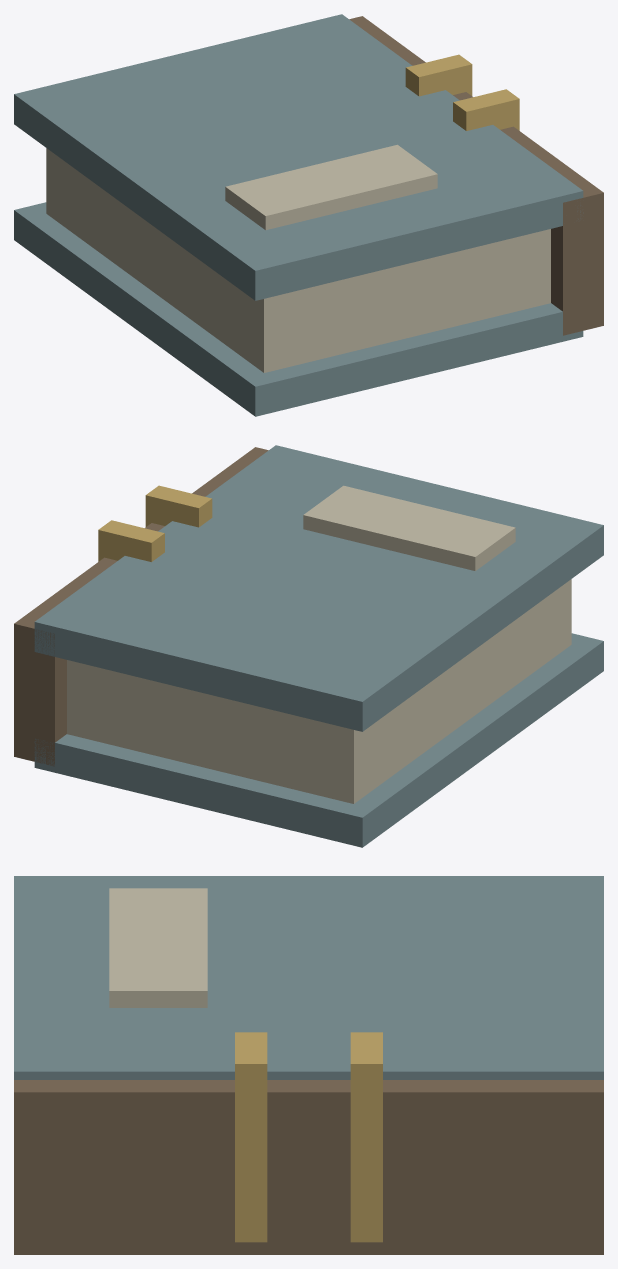
Rendered from spread-portable-codex06.fbx.
3 views of the same model, one above another, from view 1: azimuth 30°, elevation 25°; view 2: azimuth 150°, elevation 25°; view 3: azimuth 270°, elevation 25° (orthographic). The views are drawn at different scales.
Visible parts, largest first — view 1: spread-portable-codex06__Geometry; view 2: spread-portable-codex06__Geometry; view 3: spread-portable-codex06__Geometry.
Boxes of the visible parts, x1,y1,x2,y2 form: spread-portable-codex06__Geometry: (14, 14, 603, 416); spread-portable-codex06__Geometry: (14, 445, 603, 847); spread-portable-codex06__Geometry: (14, 876, 603, 1254).
Bounding box in the file's own units: 0.4325 × 0.1925 × 0.51.
